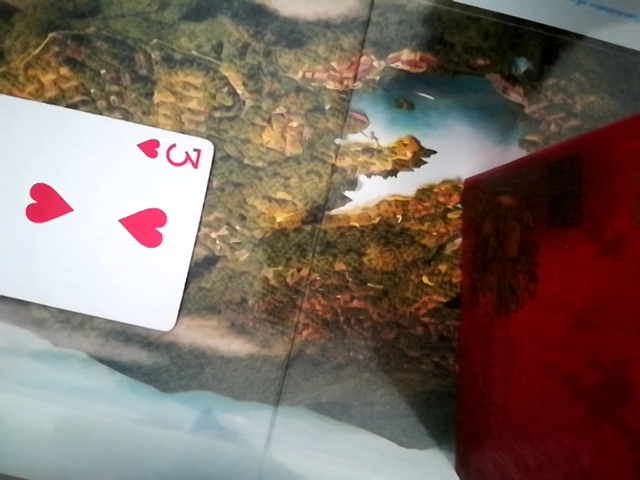hx 3: (0, 77, 212, 335)
